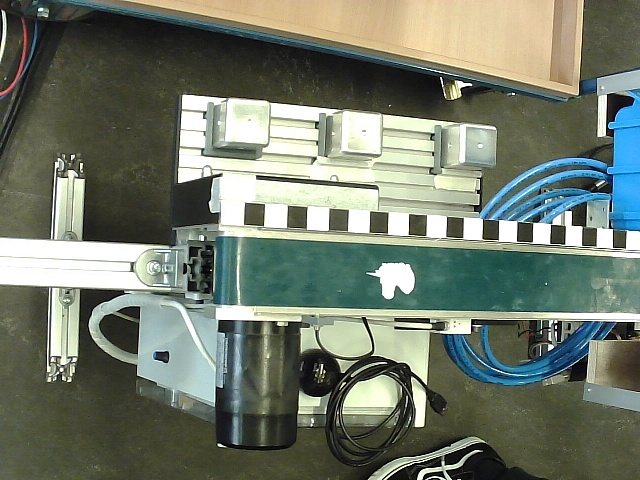unicorn: (365, 259, 416, 300)
